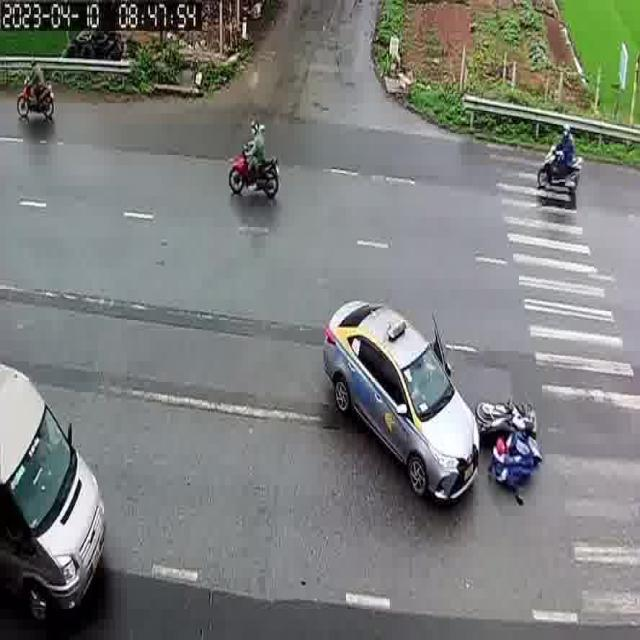multiple_accident: (320, 281, 545, 535)
normal: (212, 111, 286, 210), (534, 121, 587, 204), (12, 56, 61, 128)
